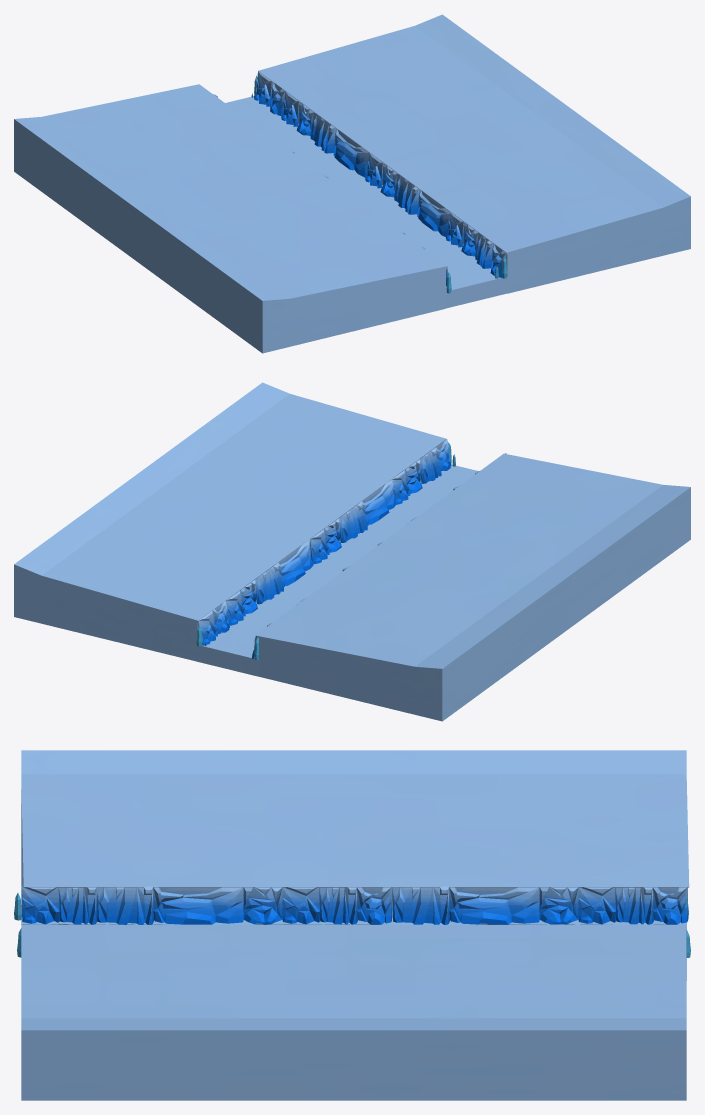
Rendered from RollMountain 2.fbx.
3 views of the same model, one above another, from view 1: azimuth 30°, elevation 25°; view 2: azimuth 150°, elevation 25°; view 3: azimuth 270°, elevation 25° (orthographic). The views are drawn at different scales.
Visible parts, largest first — view 1: Cube.002, Plane, wall_05.006, wall_05.002, wall_02.001, wall_02.003; view 2: Cube.002, Plane, wall_05.006, wall_05.002, wall_02.001, wall_02.003, wall_02.004; view 3: Cube.002, wall_05.004, wall_05.005, wall_02.005, wall_02.007, wall_04.003, wall_04.007, wall_02.009, wall_02.002, wall_02.008, wall_01.005, wall_01.004 (+4 smaller).
Boxes of the visible parts, box(x1,y1,x2,y2) form: Cube.002: box(14, 14, 690, 353); Plane: box(225, 96, 507, 308); wall_05.006: box(333, 128, 369, 177); wall_05.002: box(417, 189, 451, 236); wall_02.001: box(310, 112, 335, 153); wall_02.003: box(394, 174, 419, 214); Cube.002: box(14, 382, 690, 721); Plane: box(197, 464, 478, 676); wall_05.006: box(276, 539, 313, 586); wall_05.002: box(360, 478, 395, 525); wall_02.001: box(255, 564, 283, 604); wall_02.003: box(339, 502, 367, 542); wall_02.004: box(419, 448, 441, 483); Cube.002: box(21, 750, 689, 1100); wall_05.004: box(153, 887, 243, 924); wall_05.005: box(449, 887, 539, 924); wall_02.005: box(392, 886, 449, 924); wall_02.007: box(96, 886, 153, 924); wall_04.003: box(539, 887, 578, 924); wall_04.007: box(243, 887, 282, 924); wall_02.009: box(58, 887, 97, 924); wall_02.002: box(615, 887, 653, 924); wall_02.008: box(319, 887, 357, 924); wall_01.005: box(21, 886, 59, 924); wall_01.004: box(578, 887, 615, 924).
Bounding box in the file's own units: 16661 × 1955 × 17026.
19 materials, 14 textured.
